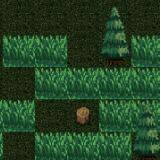Obstacle: (67, 98, 99, 132), (99, 35, 131, 68), (131, 132, 160, 160)
Slow: (35, 68, 160, 99), (35, 132, 131, 160), (3, 35, 67, 68), (99, 99, 160, 132), (0, 100, 35, 132), (131, 34, 160, 67)
